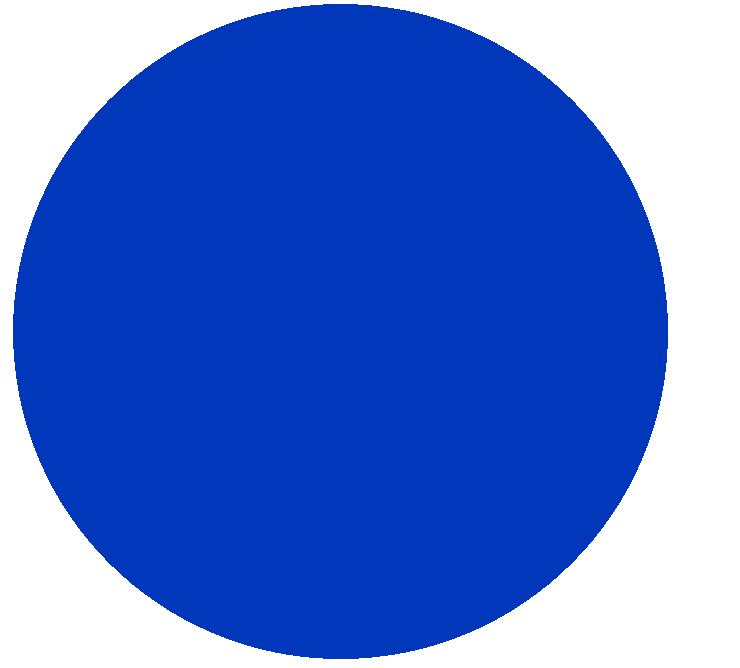blue_circle: (0, 0, 670, 663)
